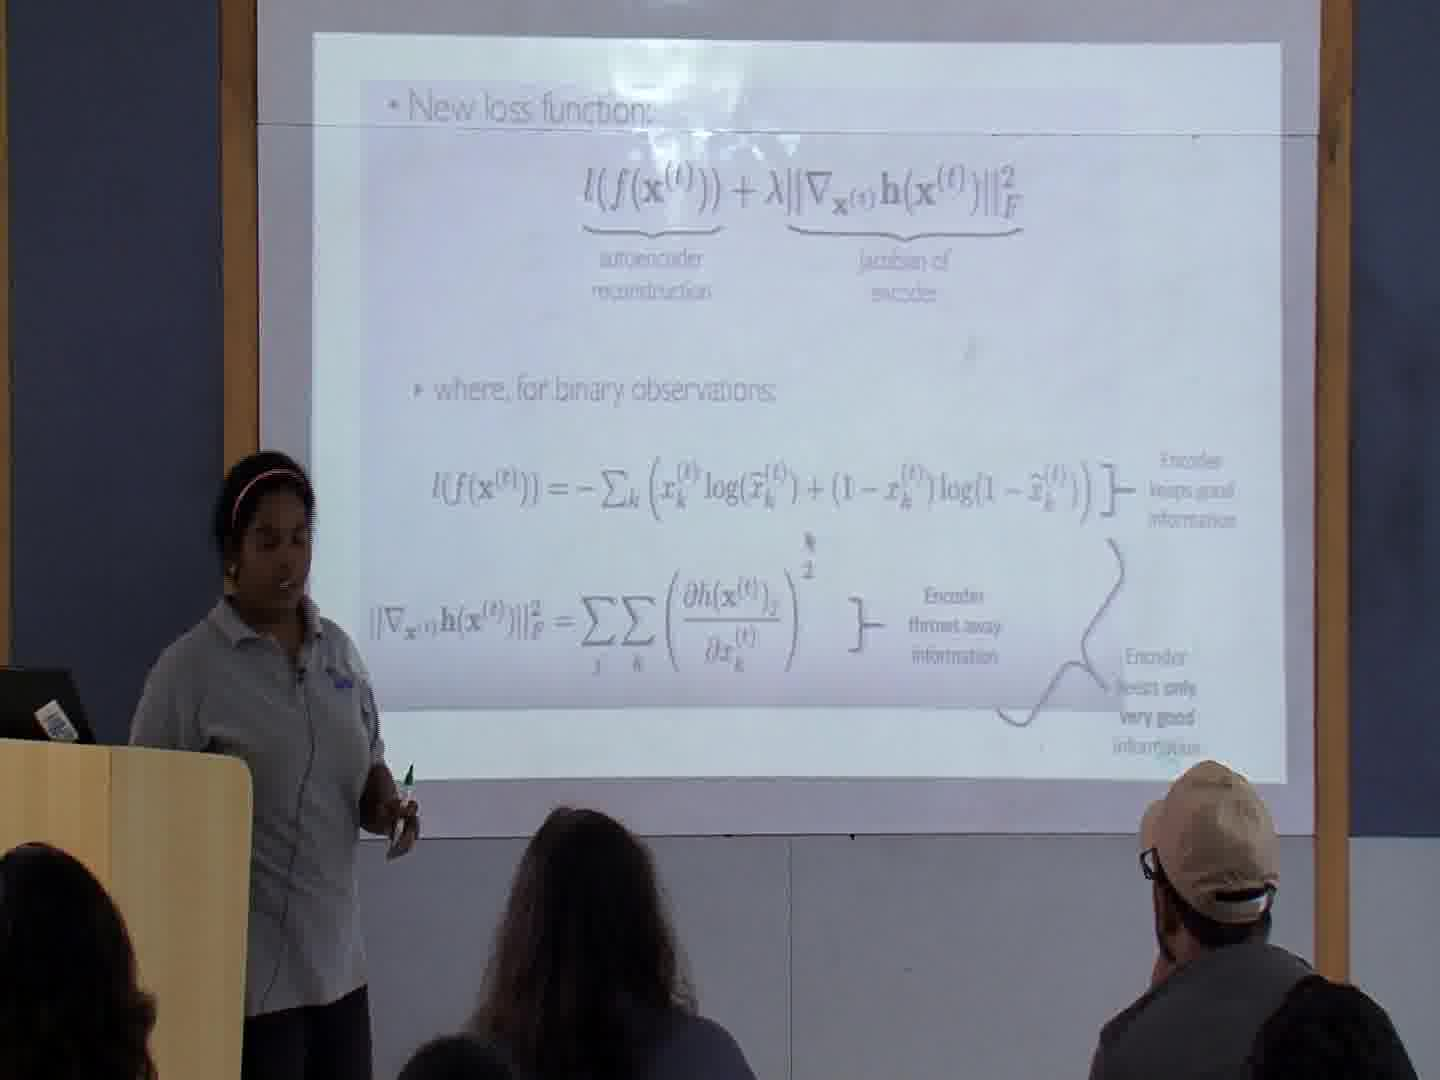eq: (362, 558, 818, 678), (412, 452, 1096, 529), (574, 151, 1026, 229)
